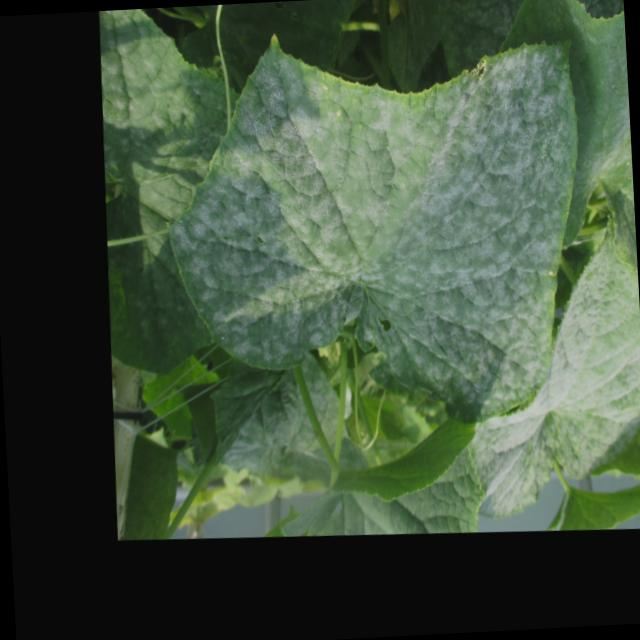Powdery_Mildew: (163, 22, 580, 446), (379, 247, 577, 445), (192, 174, 348, 418), (417, 39, 587, 241)
